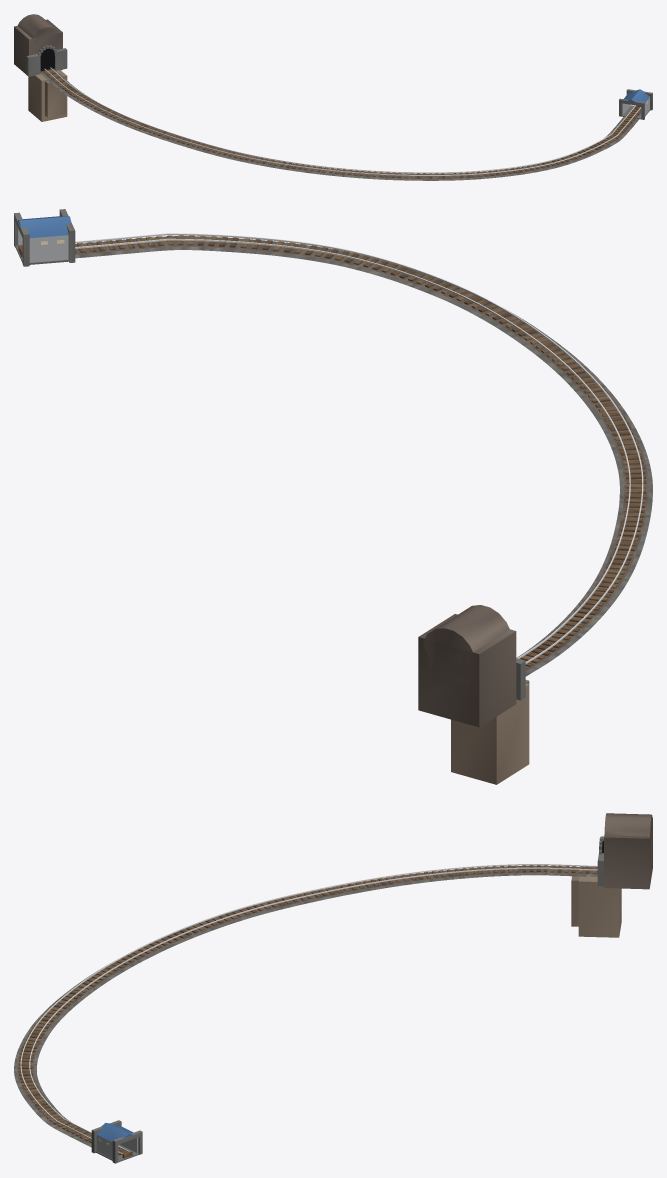
The model's file is Rail_P1.fbx.
3 renders of one model, top to bottom at view 1: azimuth 30°, elevation 25°; view 2: azimuth 150°, elevation 25°; view 3: azimuth 270°, elevation 25°, orthographic. The views are drawn at different scales.
Visible parts, largest first — view 1: Rail.Portal, Rail.Sleepers, Rail.Bed, Rail.Ballast, Rail.Rail.001, Rail.Rail, Rail.Shed; view 2: Rail.Portal, Rail.Sleepers, Rail.Bed, Rail.Ballast, Rail.Shed, Rail.Rail, Rail.Rail.001; view 3: Rail.Portal, Rail.Sleepers, Rail.Bed, Rail.Ballast, Rail.Shed, Rail.Rail, Rail.Rail.001.
Boxes of the visible parts, <box> form: Rail.Portal: <box>14,14,67,121</box>; Rail.Sleepers: <box>43,69,640,178</box>; Rail.Bed: <box>42,69,640,178</box>; Rail.Ballast: <box>40,70,639,180</box>; Rail.Rail.001: <box>50,67,636,173</box>; Rail.Rail: <box>44,68,640,175</box>; Rail.Shed: <box>619,89,652,119</box>; Rail.Portal: <box>418,605,529,784</box>; Rail.Sleepers: <box>75,235,646,669</box>; Rail.Bed: <box>75,236,648,671</box>; Rail.Ballast: <box>75,236,652,676</box>; Rail.Shed: <box>14,209,75,266</box>; Rail.Rail: <box>75,233,643,663</box>; Rail.Rail.001: <box>75,238,630,658</box>; Rail.Portal: <box>571,813,652,937</box>; Rail.Sleepers: <box>18,865,597,1154</box>; Rail.Bed: <box>17,866,597,1155</box>; Rail.Ballast: <box>14,865,597,1147</box>; Rail.Shed: <box>91,1120,142,1163</box>; Rail.Rail: <box>20,864,597,1154</box>; Rail.Rail.001: <box>29,867,597,1151</box>.
Size of the model in its own units: 27139 by 4946 by 25189.
